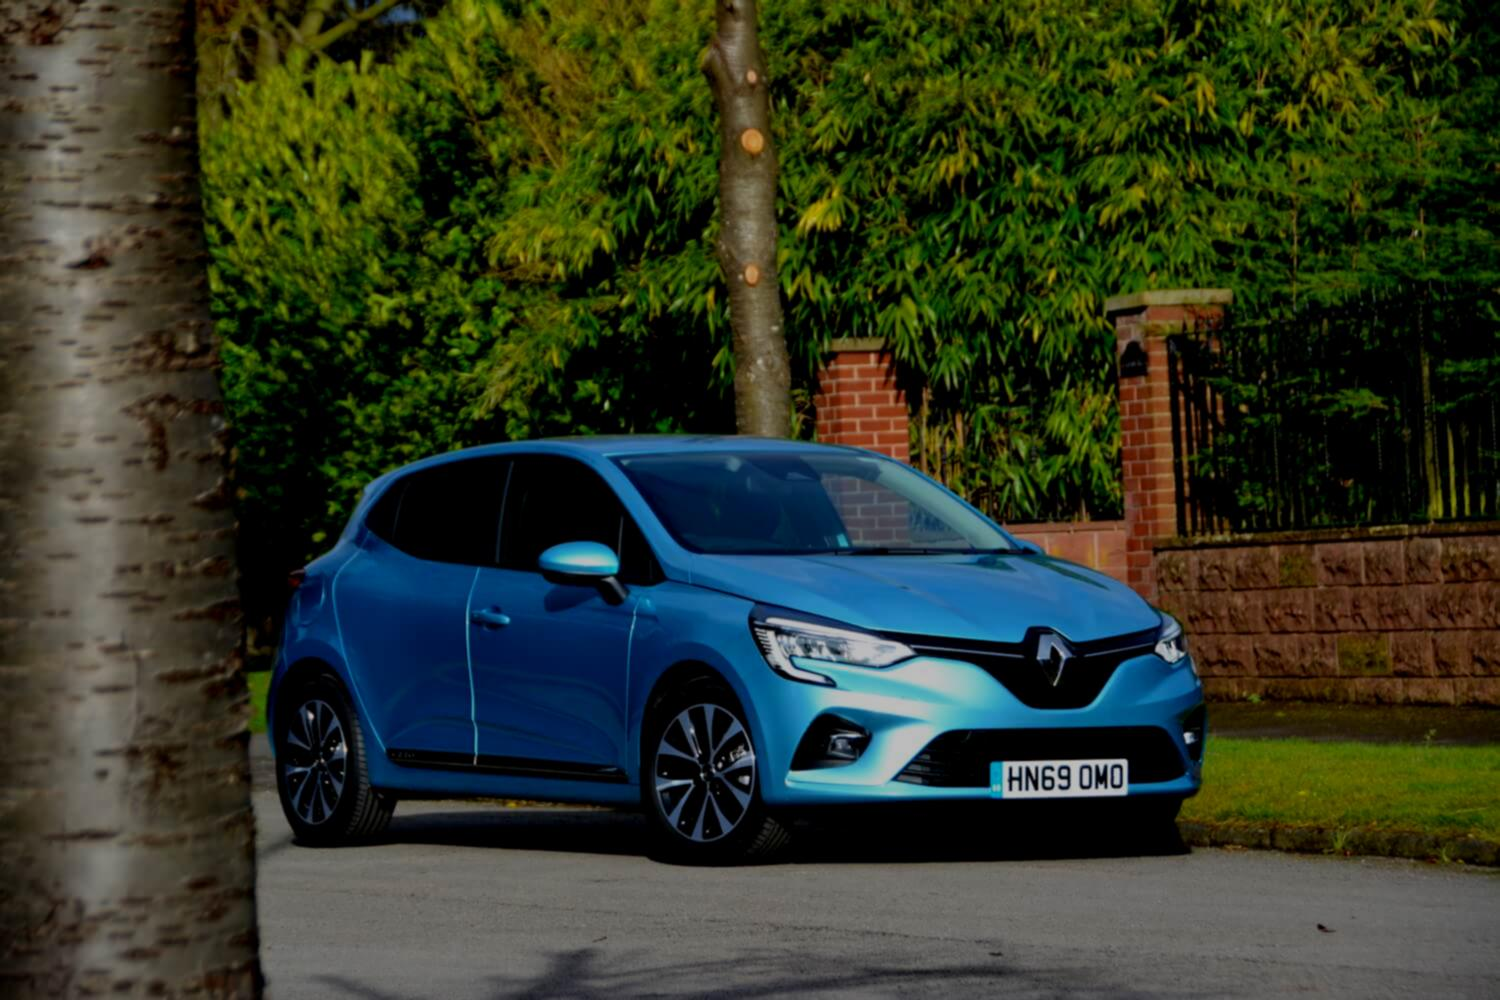Renault: (1029, 622, 1081, 699)
